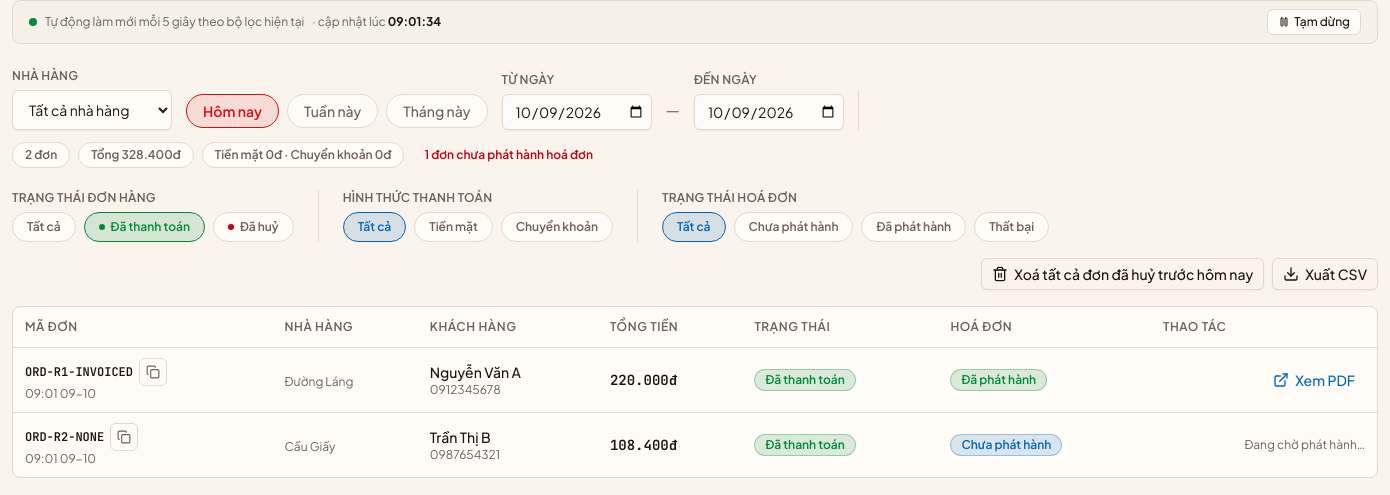
Test: AccountingPage enterprise accounting › filters the table by restaurant (client-side, không gọi lại API)
Check: the text "ORD-R1-INVOICED" is shown, box [25, 364, 133, 380]
Check: the text "ORD-R2-NONE" is shown, box [25, 428, 104, 444]
Select "Đường Láng" in the dropdown with test id "accounting.restaurant_filter" at (92, 110), box [12, 90, 172, 130]
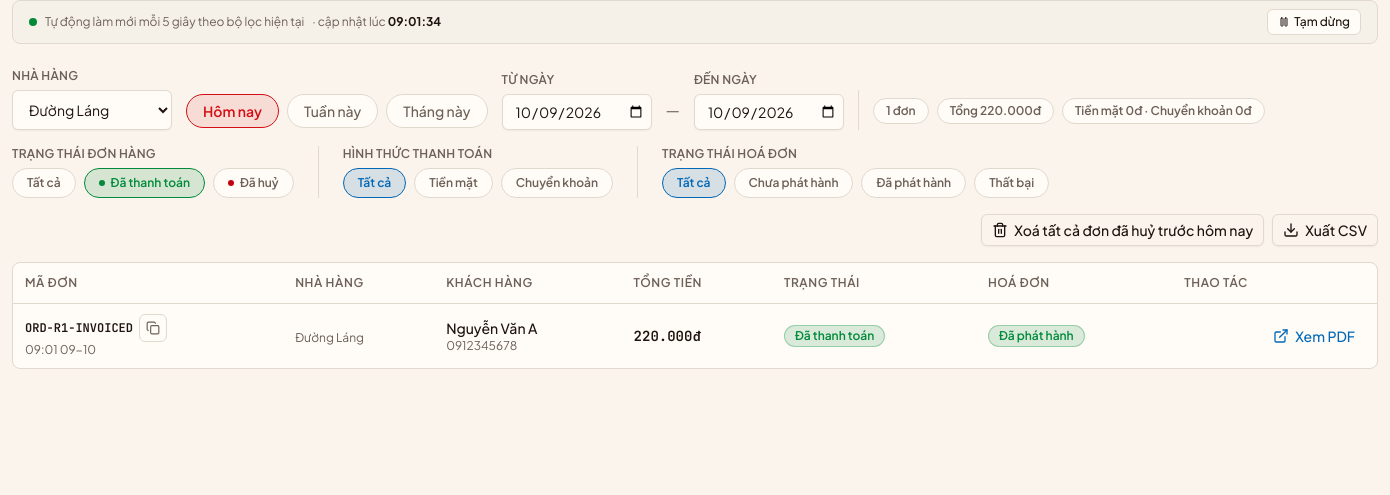
Check: the text "ORD-R1-INVOICED" is shown, box [25, 320, 133, 336]
Check: the text "ORD-R2-NONE" is gone
